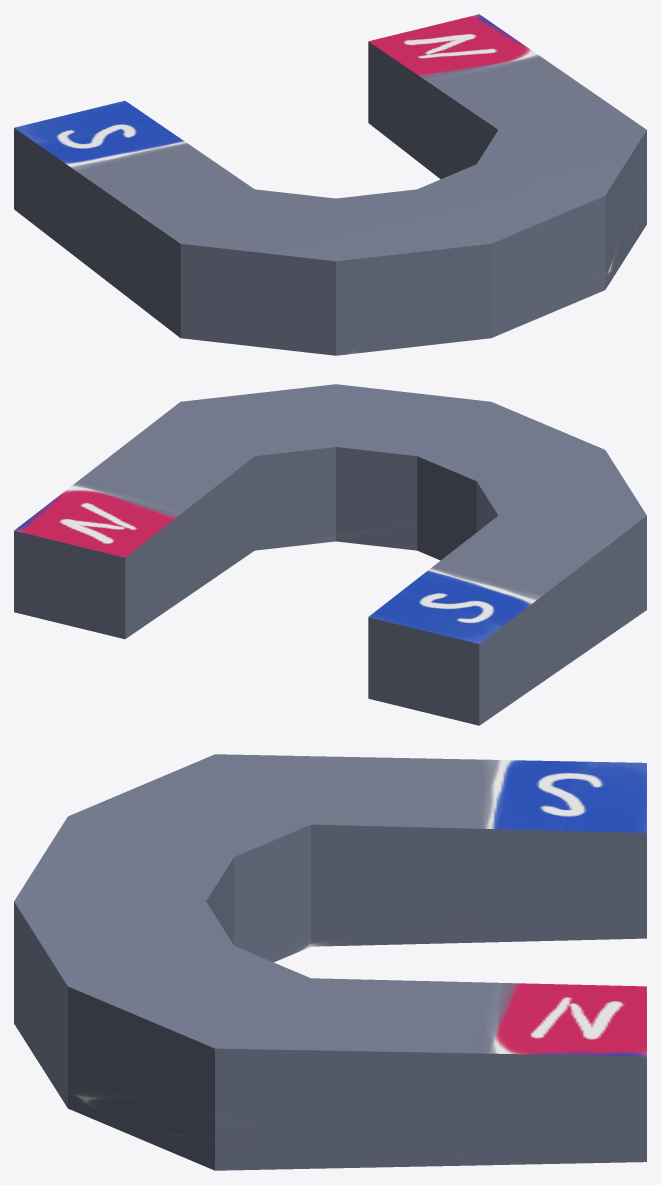
File: magnet.fbx
3 renders of one model, top to bottom at view 1: azimuth 30°, elevation 25°; view 2: azimuth 150°, elevation 25°; view 3: azimuth 270°, elevation 25°, orthographic. The views are drawn at different scales.
Parts seen in each view (by area): view 1: 円柱; view 2: 円柱; view 3: 円柱.
Boxes of the visible parts, x1,y1,x2,y2 form: 円柱: (14, 14, 646, 355); 円柱: (14, 384, 646, 725); 円柱: (14, 754, 646, 1170).
Size of the model in its own units: 173 by 33.51 by 157.
